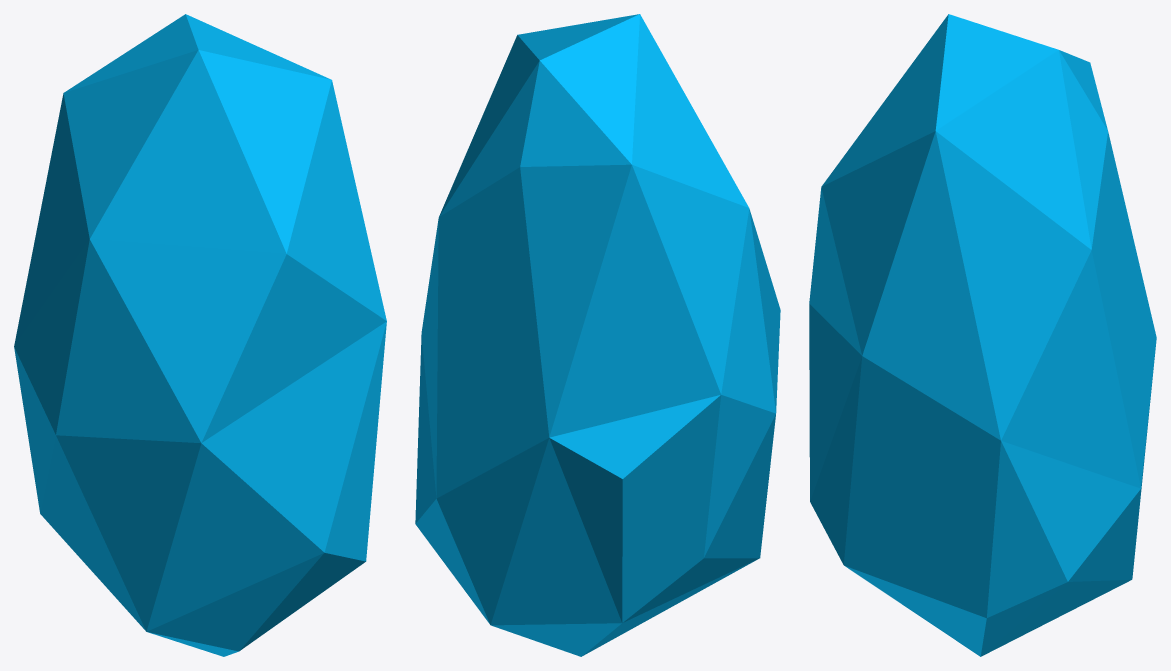
File: Crystal_002.fbx
The picture shows the model from 3 angles, left to right: view 1: azimuth 30°, elevation 25°; view 2: azimuth 150°, elevation 25°; view 3: azimuth 270°, elevation 25°; orthographic projection. The views are drawn at different scales.
Visible parts, largest first — view 1: Crystal.002; view 2: Crystal.002; view 3: Crystal.002.
Boxes of the visible parts, x1,y1,x2,y2 form: Crystal.002: [14, 14, 386, 656]; Crystal.002: [415, 14, 780, 656]; Crystal.002: [809, 14, 1156, 656].
Bounding box in the file's own units: 176 × 325 × 164.
